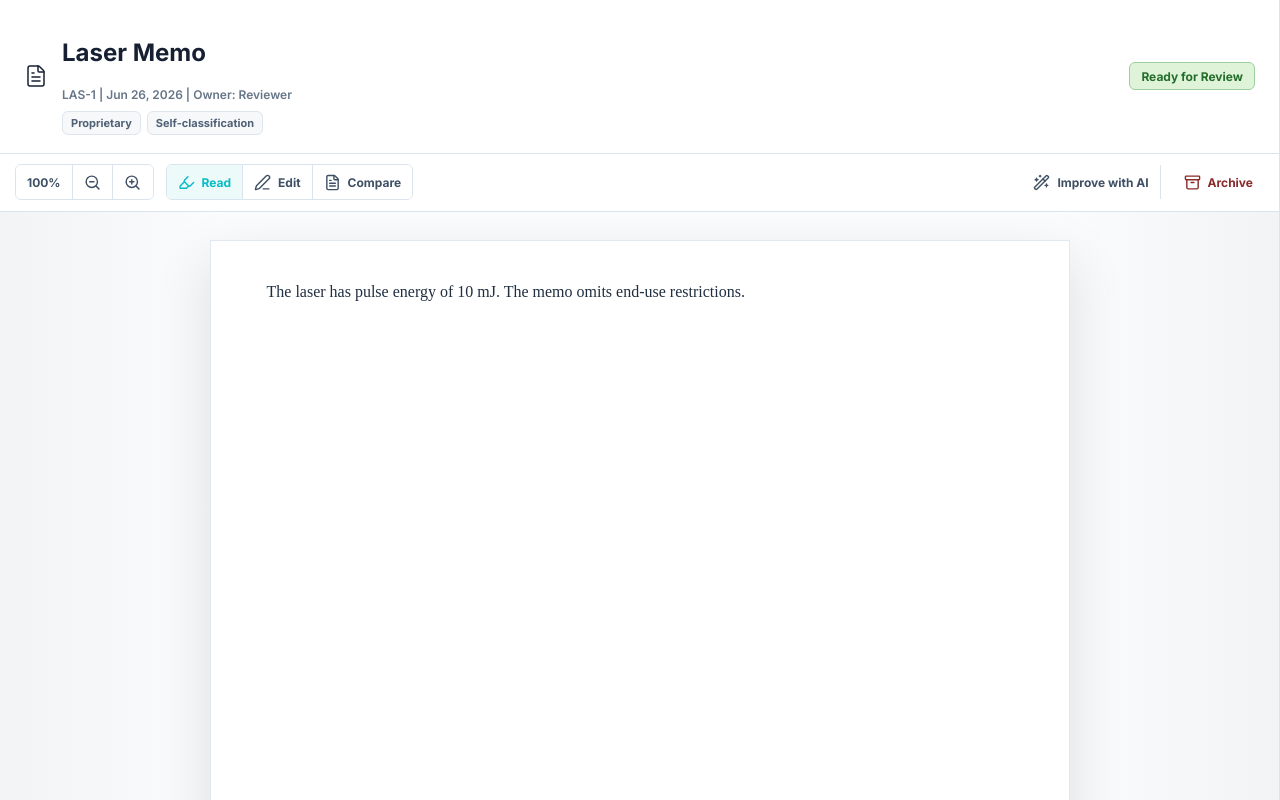
Test: MemoWorkspace › discards local draft text without saving it
The width and height of the screenshot is (1280, 800).
Click the button "Edit" at (278, 182), box x1=243 y1=165 x2=313 y2=199
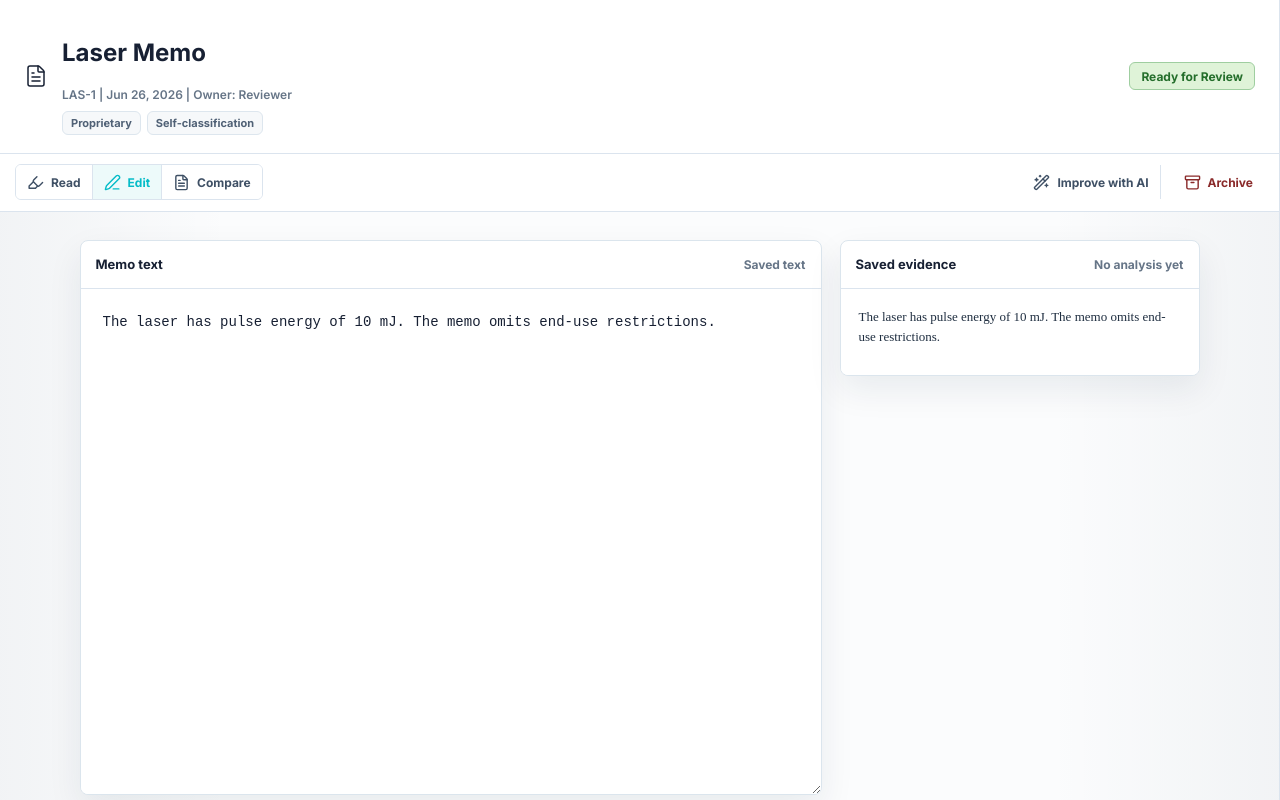
Replace the text in the text box named "Memo text editor" with "Changed locally" at (450, 541), box x1=80 y1=289 x2=820 y2=794
(page scrolled)
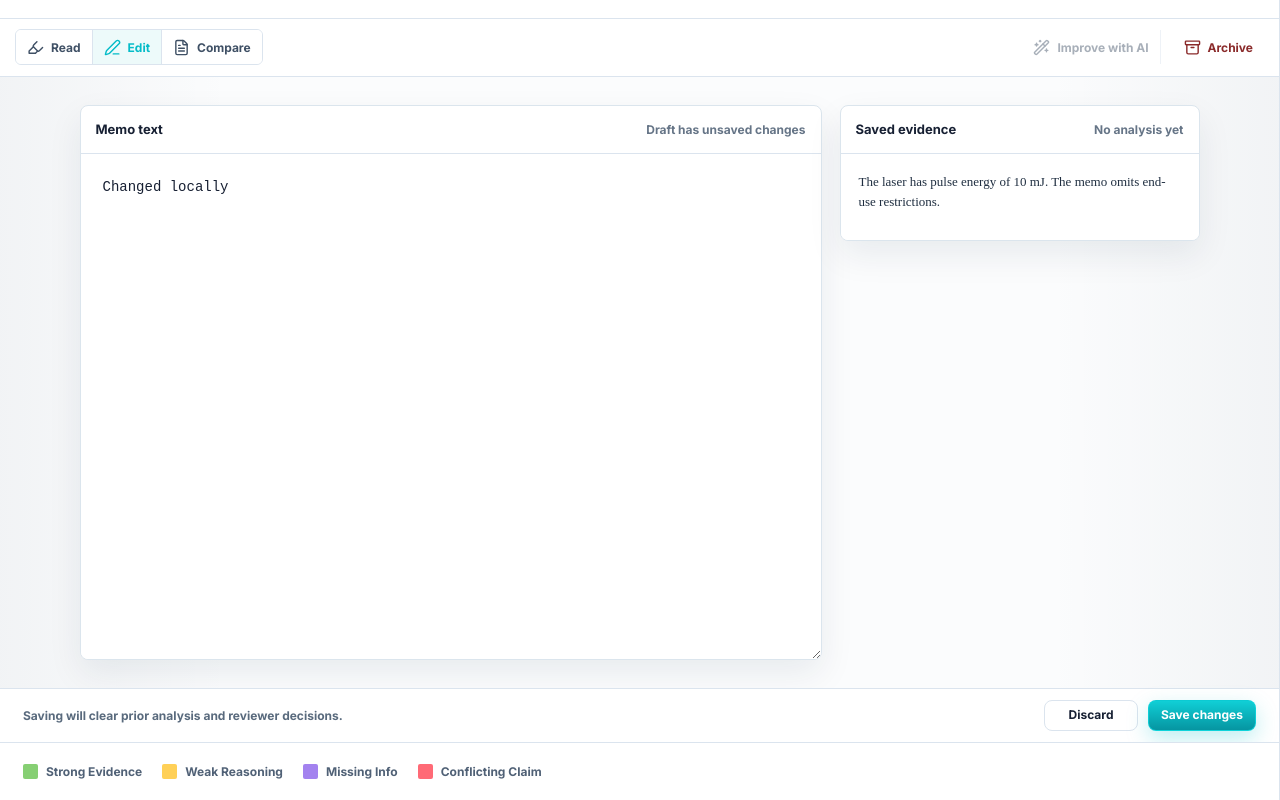
Click the button "Discard" at (1091, 715), box x1=1044 y1=700 x2=1138 y2=731
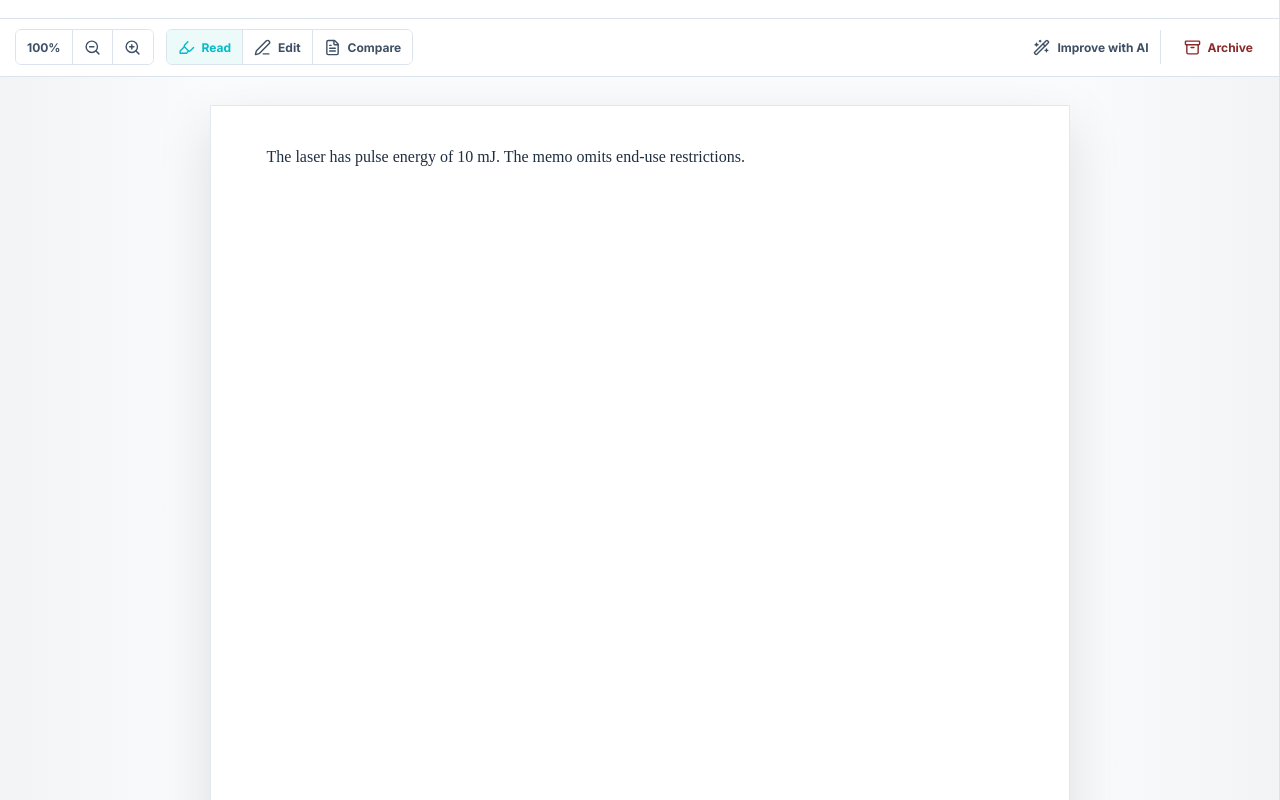
Click the button "Edit" at (278, 47), box x1=243 y1=30 x2=313 y2=64
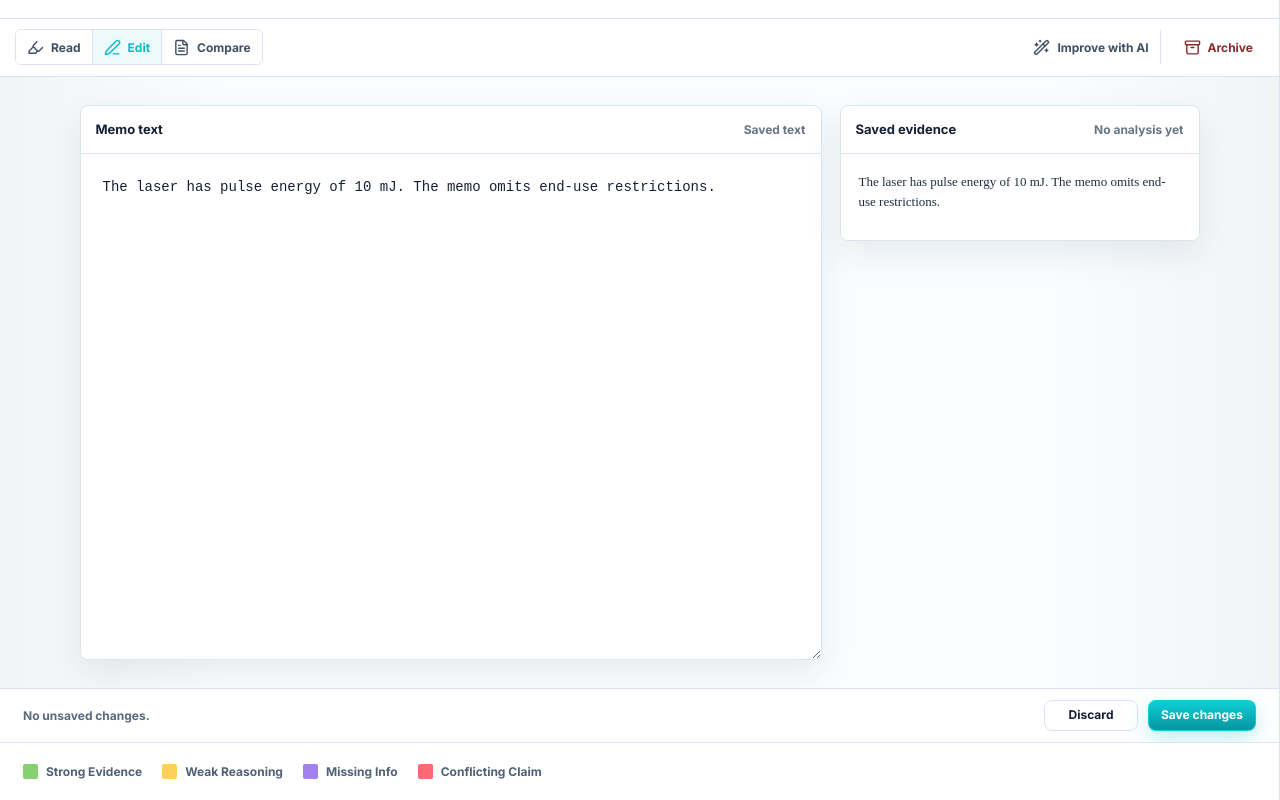
Check: the text box named "Memo text editor" holds "The laser has pulse energy of 10 mJ. The memo omits end-use restrictions.", box x1=80 y1=154 x2=820 y2=659
